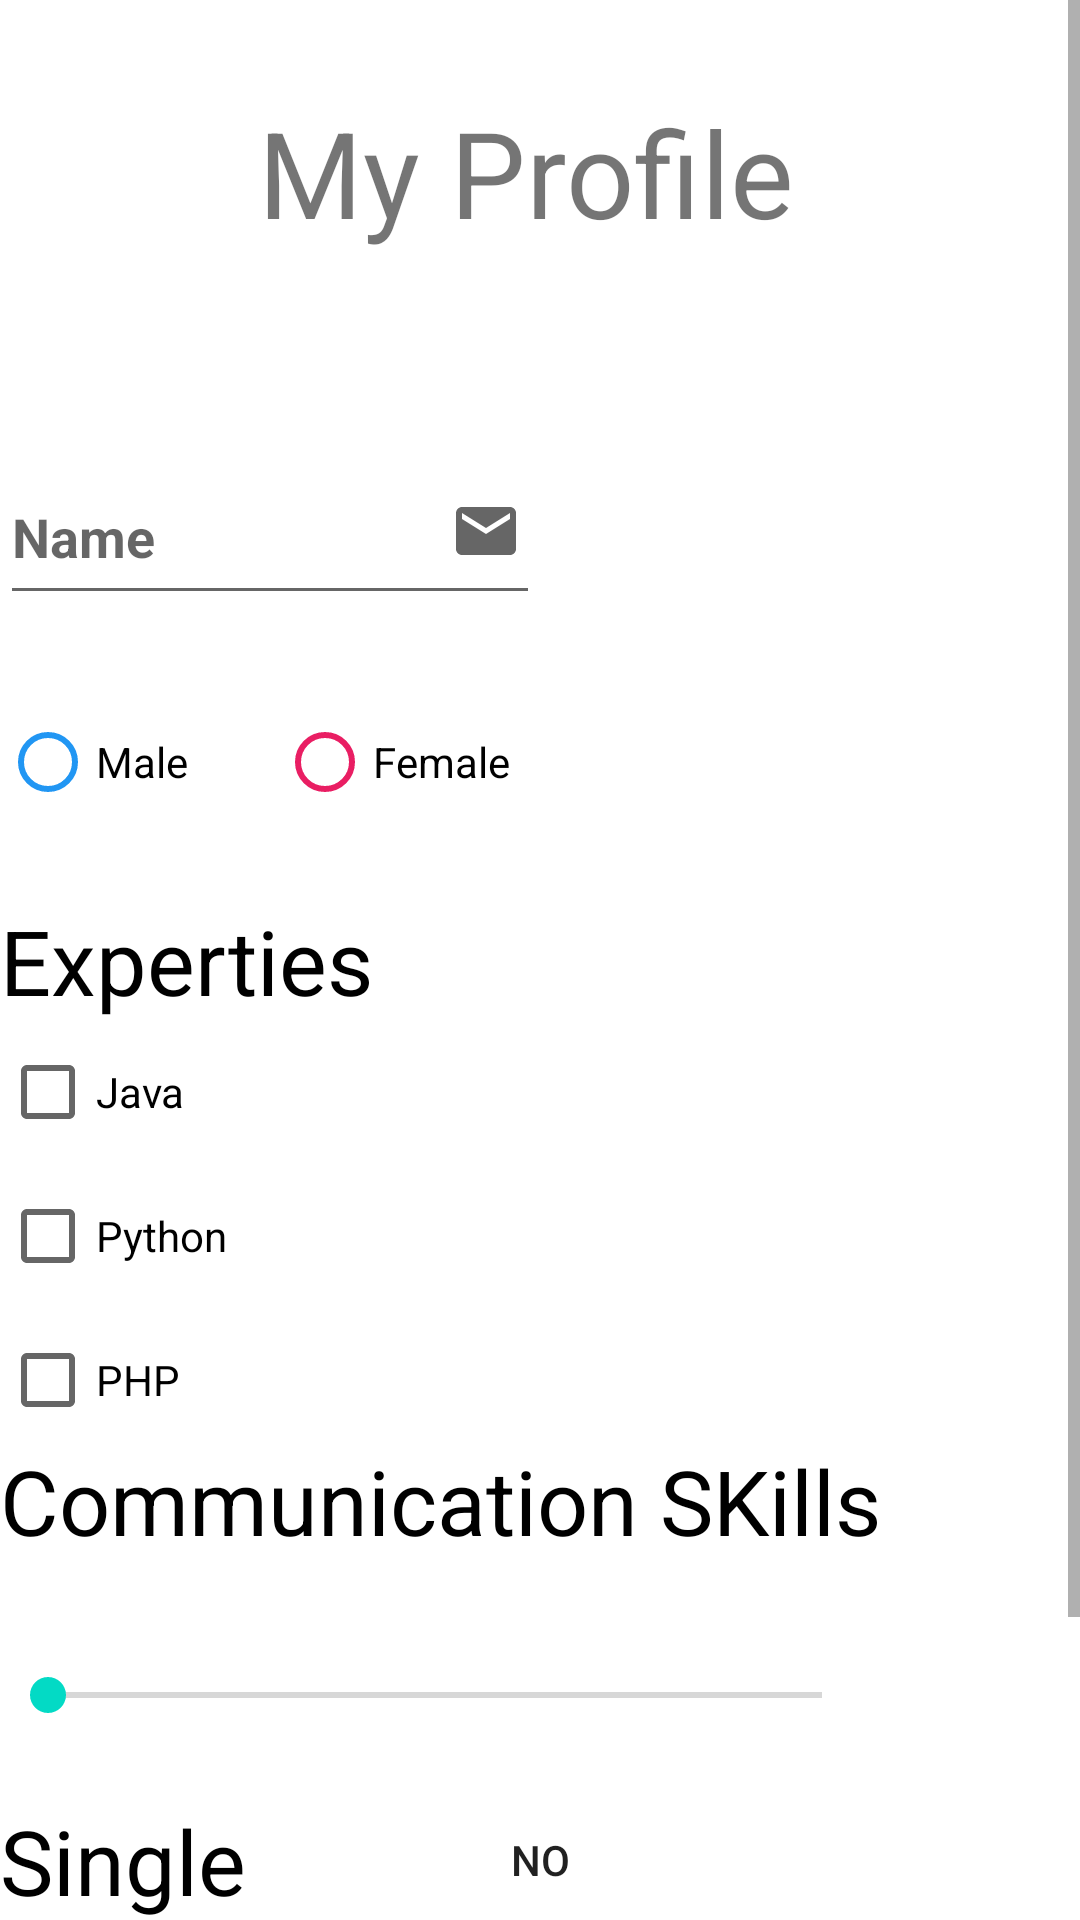

Icon bounding boxes for this 1080w x 1920h phone screenshot, format Rect(x1, y1, x2, y2):
email: Rect(456, 507, 516, 555)
